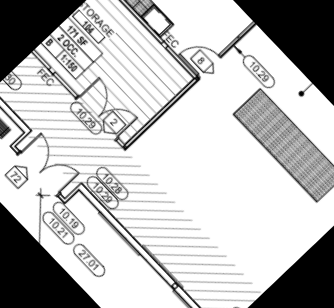door: (175, 32, 223, 81)
double door: (14, 129, 84, 199), (74, 73, 141, 141)
